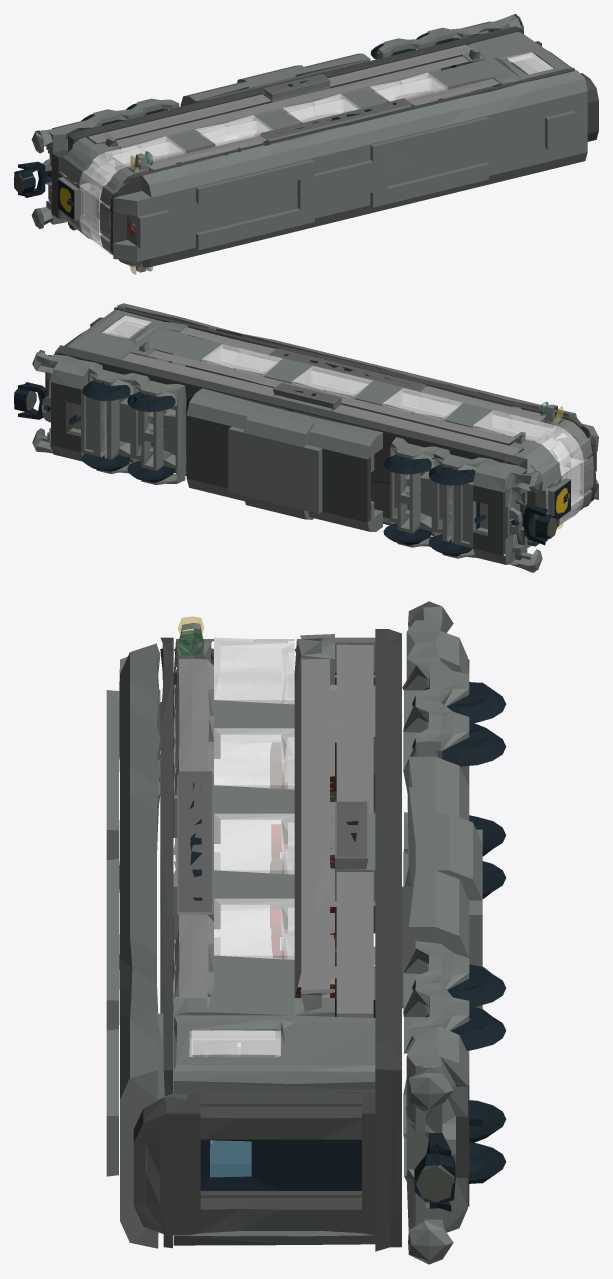
The model's file is dining-car.glb.
The picture shows the model from 3 angles, top to bottom: view 1: azimuth 30°, elevation 25°; view 2: azimuth 150°, elevation 25°; view 3: azimuth 270°, elevation 25°; orthographic projection. The views are drawn at different scales.
Size of the model in its own units: 283 by 61.97 by 95.22.
